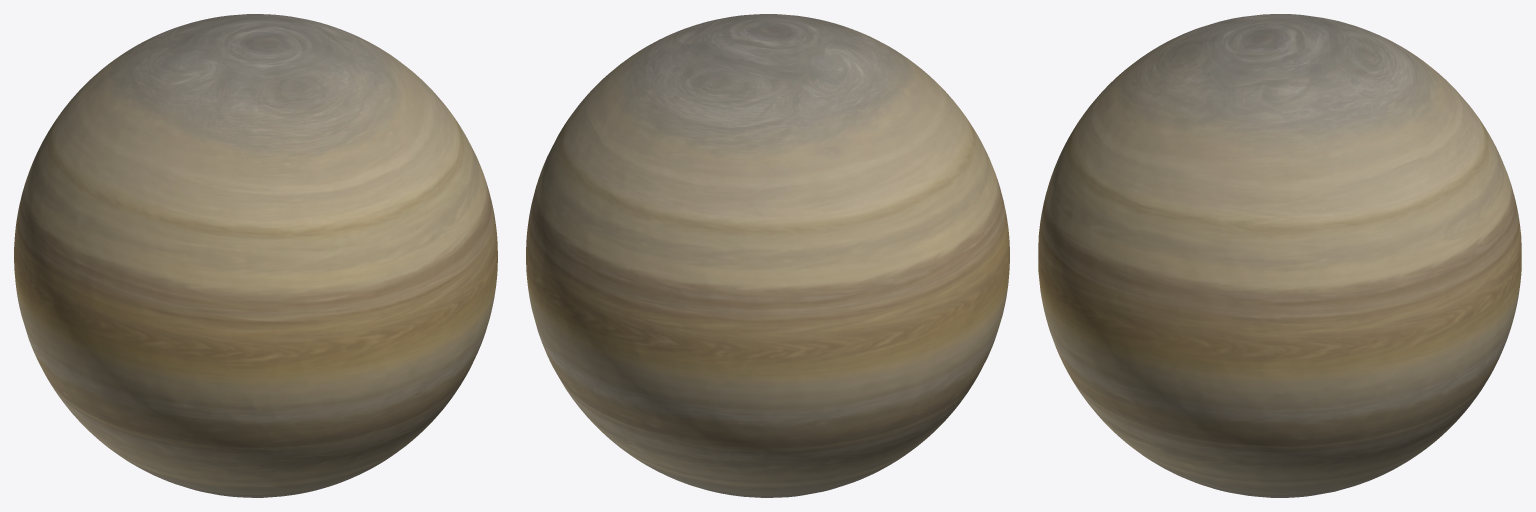
File: PlanetSaturn.glb
The picture shows the model from 3 angles, left to right: view 1: azimuth 30°, elevation 25°; view 2: azimuth 150°, elevation 25°; view 3: azimuth 270°, elevation 25°; orthographic projection.
Visible parts, largest first — view 1: Saturn; view 2: Saturn; view 3: Saturn.
Part boxes in pixels (<box>): Saturn: <box>14,14,497,497</box>; Saturn: <box>526,14,1009,497</box>; Saturn: <box>1038,14,1521,497</box>.
Size of the model in its own units: 2 by 2 by 2.
Materials: 1 (1 with a texture image).
